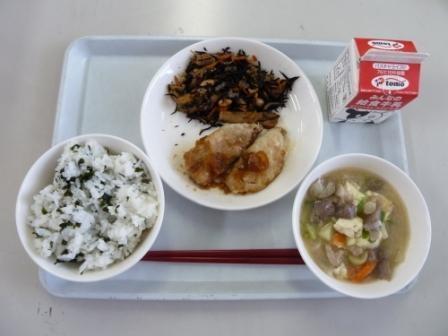Fish: (182, 125, 287, 190)
Milk: (328, 25, 432, 121)
Rice: (15, 137, 160, 274)
Soups: (288, 161, 431, 293)
salad with sauce: (174, 51, 287, 126)
